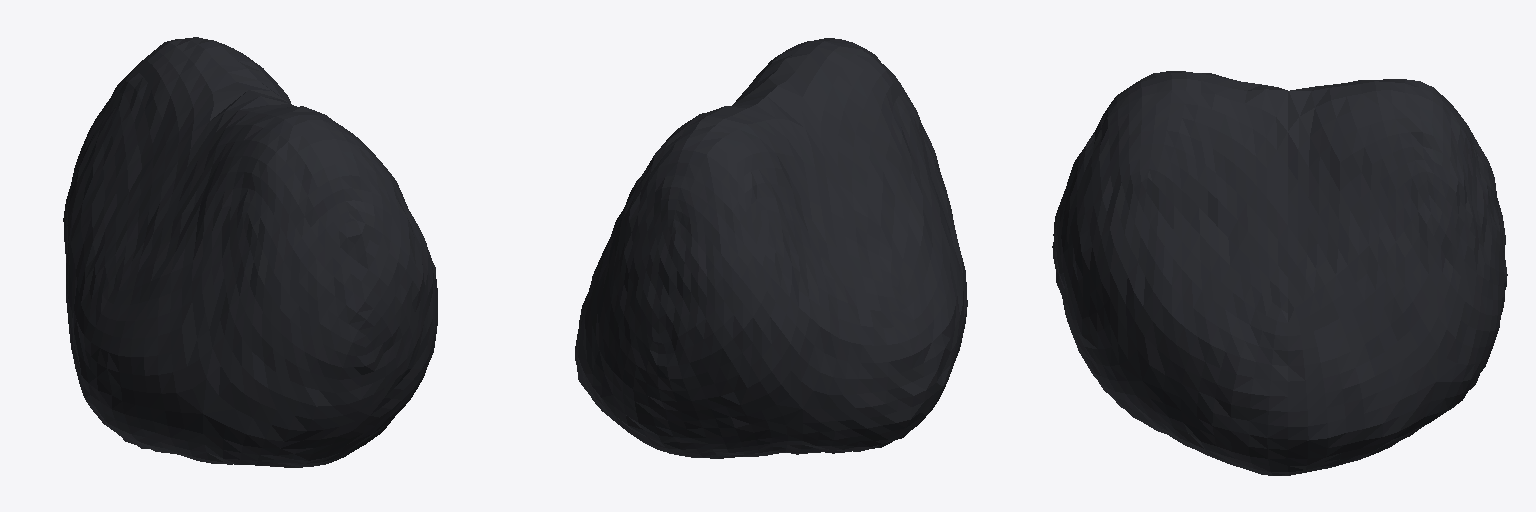
The model's file is rock2.obj.
3 renders of one model, left to right at view 1: azimuth 30°, elevation 25°; view 2: azimuth 150°, elevation 25°; view 3: azimuth 270°, elevation 25°, orthographic.
Size of the model in its own units: 0.8958 by 0.9154 by 1.07.